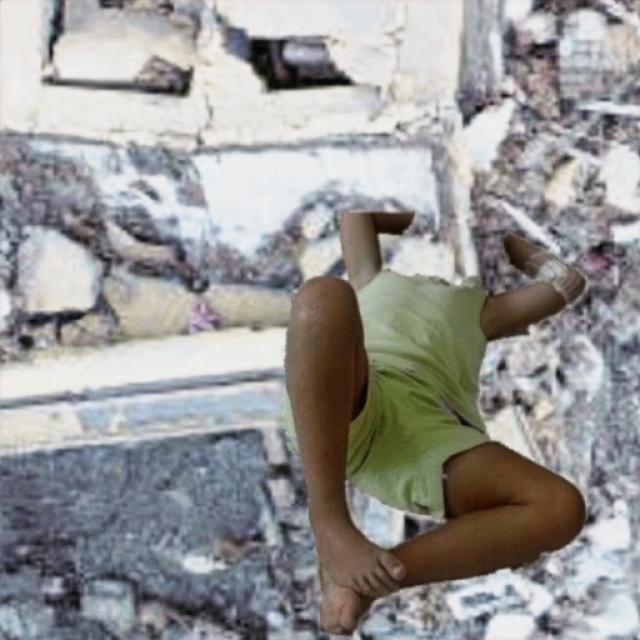Person in Rubble: (282, 213, 586, 636)
